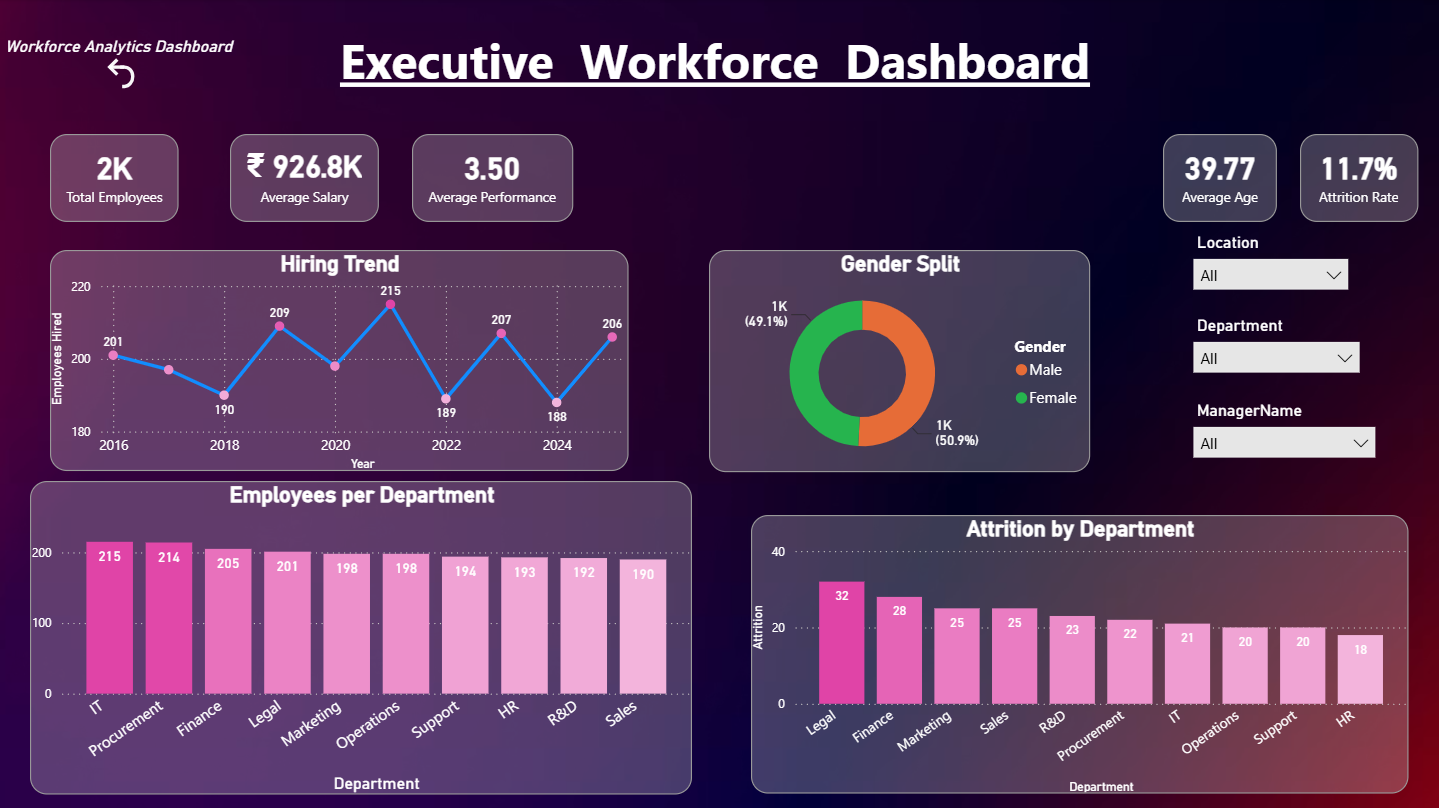

The dashboard page shown, as its layout file describes it:
{"tool":"powerbi","page":{"name":"Executive Overview","canvas":[1280,720],"ordinal":0},"visuals":[{"type":"cardVisual","title":"👥 Total Employees","fields":{"Data":["Measures Table.Total Employees"]},"box":[47,119.7,114.4,78],"z":0},{"type":"cardVisual","title":"🎂 Average Age","fields":{"Data":["Measures Table.Average Age"]},"box":[1033.9,119.7,101.1,78],"z":1000},{"type":"cardVisual","title":"💰 Average Salary","fields":{"Data":["Measures Table.Average Salary"]},"box":[206.6,119.7,132.1,78],"z":2000},{"type":"cardVisual","title":"📉 Attrition Rate","fields":{"Data":["Measures Table.Attrition Rate"]},"box":[1155.4,119.7,104.6,78],"z":3000},{"type":"clusteredColumnChart","title":"Employees per Department","fields":{"Y":["Measures Table.Total Employees"],"Category":["Department.Department"]},"box":[29.3,427.4,587,277.5],"z":4000},{"type":"donutChart","title":"Gender Split","fields":{"Category":["Employee.Gender"],"Y":["Measures Table.Total Employees"]},"box":[631.3,222.6,337.8,196.8],"z":5000},{"type":"lineChart","title":"Hiring Trend","fields":{"Category":["Date.Date.Variation.Date Hierarchy.Year","Date.Date.Variation.Date Hierarchy.Quarter","Date.Date.Variation.Date Hierarchy.Month","Date.Date.Variation.Date Hierarchy.Day"],"Y":["Measures Table.Total Employees"]},"box":[47,222.6,512.5,196],"z":6000},{"type":"clusteredColumnChart","title":"Attrition by Department","fields":{"Category":["Department.Department"],"Y":["Measures Table.Attrition Count"]},"box":[668.6,457.5,582.6,247.4],"z":7000},{"type":"slicer","fields":{"Values":["Department.Department"]},"box":[1056.1,281.1,156.9,62.1],"z":8000},{"type":"slicer","fields":{"Values":["Location.Location"]},"box":[1056.1,207.5,147.2,62.1],"z":9000},{"type":"slicer","fields":{"Values":["Manager.ManagerName"]},"box":[1056.1,356.5,171.1,62.1],"z":10000},{"type":"textbox","box":[226.1,8,821.1,97.5],"z":11000},{"type":"cardVisual","fields":{"Data":["Measures Table.Average Performance"]},"box":[368,119.7,142.8,78],"z":12000},{"type":"actionButton","title":"Workforce Analytics Dashboard","box":[7.1,33.7,206.6,46.1],"z":13000}]}

Visuals, with their boxes in screenshot pixels (x1, y1, x2, y2), scaled from the page's 1280x720 canvas onto the 1439x808 screenshot:
"👥 Total Employees" cardVisual: box(53, 134, 181, 222)
"🎂 Average Age" cardVisual: box(1162, 134, 1276, 222)
"💰 Average Salary" cardVisual: box(232, 134, 381, 222)
"📉 Attrition Rate" cardVisual: box(1299, 134, 1417, 222)
"Employees per Department" clusteredColumnChart: box(33, 480, 693, 791)
"Gender Split" donutChart: box(710, 250, 1089, 471)
"Hiring Trend" lineChart: box(53, 250, 629, 470)
"Attrition by Department" clusteredColumnChart: box(752, 513, 1407, 791)
slicer - Department.Department: box(1187, 315, 1364, 385)
slicer - Location.Location: box(1187, 233, 1353, 303)
slicer - Manager.ManagerName: box(1187, 400, 1380, 470)
textbox: box(254, 9, 1177, 118)
cardVisual - Measures Table.Average Performance: box(414, 134, 574, 222)
"Workforce Analytics Dashboard" actionButton: box(8, 38, 240, 90)
